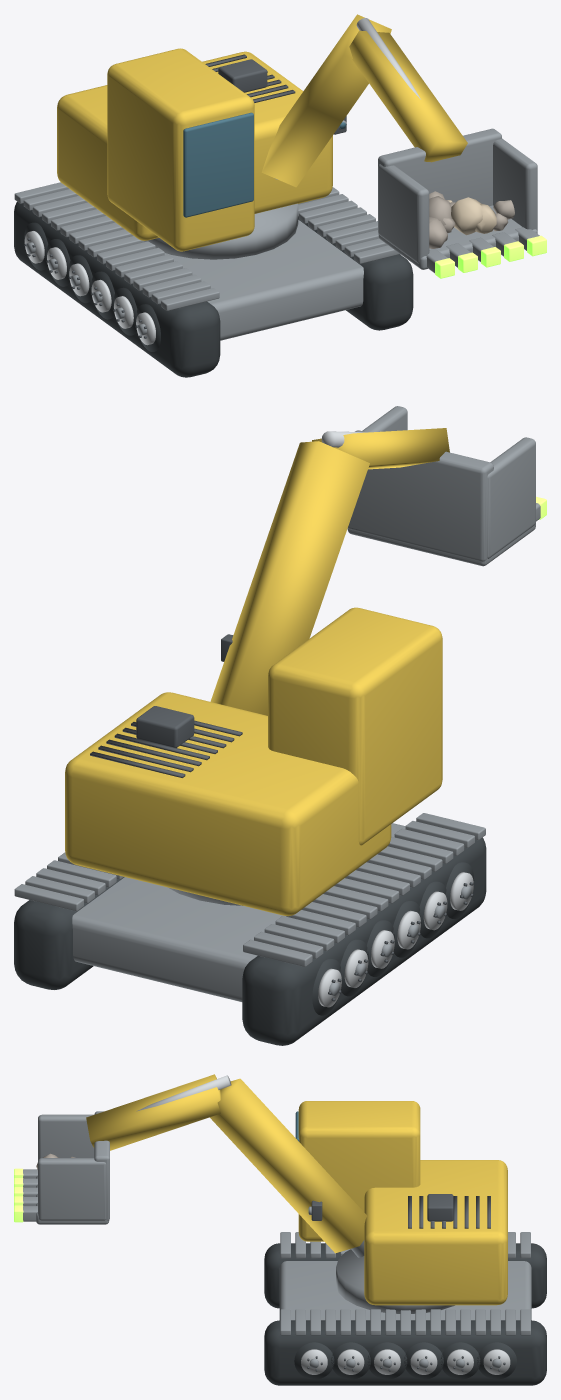
The model's file is smart-excavator.glb.
3 views of the same model, one above another, from view 1: azimuth 30°, elevation 25°; view 2: azimuth 150°, elevation 25°; view 3: azimuth 270°, elevation 25° (orthographic). The views are drawn at different scales.
Visible parts, largest first — view 1: Cab_0220, Bucket, Undercarriage_0001, Engine_0219, Crawler_0002, Boom, Stick, Cab_Glass_0221, Crawler_0110, Slew_Ring_0218, Edge_AI_Unit_0266, Ore_0257 (+26 smaller); view 2: Engine_0219, Cab_0220, Boom, Bucket, Undercarriage_0001, Crawler_0002, Crawler_0110, Stick, Edge_AI_Unit_0266, Track_Shoe_0127, Track_Shoe_0019, Track_Shoe_0017 (+8 smaller); view 3: Engine_0219, Cab_0220, Boom, Crawler_0110, Bucket, Undercarriage_0001, Stick, Crawler_0002, Slew_Ring_0218, Edge_AI_Unit_0266, Tire_0128, Tire_0158 (+10 smaller).
Boxes of the visible parts, <box> form: Cab_0220: <box>107,48,254,251</box>; Bucket: <box>378,128,537,269</box>; Undercarriage_0001: <box>164,220,363,340</box>; Engine_0219: <box>57,51,332,240</box>; Crawler_0002: <box>14,201,220,377</box>; Boom: <box>261,14,391,187</box>; Stick: <box>349,18,467,162</box>; Cab_Glass_0221: <box>183,112,253,217</box>; Crawler_0110: <box>298,216,413,330</box>; Slew_Ring_0218: <box>144,203,298,259</box>; Edge_AI_Unit_0266: <box>218,59,267,92</box>; Ore_0257: <box>451,197,482,235</box>; Engine_0219: <box>65,692,391,916</box>; Cab_0220: <box>268,607,442,845</box>; Boom: <box>210,441,369,715</box>; Bucket: <box>347,406,535,566</box>; Undercarriage_0001: <box>72,823,405,1001</box>; Crawler_0002: <box>242,837,486,1045</box>; Crawler_0110: <box>14,877,124,989</box>; Stick: <box>312,428,449,469</box>; Edge_AI_Unit_0266: <box>136,706,194,747</box>; Track_Shoe_0127: <box>14,884,83,911</box>; Track_Shoe_0019: <box>243,939,312,966</box>; Track_Shoe_0017: <box>264,924,334,951</box>; Engine_0219: <box>364,1160,507,1305</box>; Cab_0220: <box>298,1101,420,1241</box>; Boom: <box>210,1078,367,1253</box>; Crawler_0110: <box>264,1320,546,1385</box>; Bucket: <box>36,1111,109,1224</box>; Undercarriage_0001: <box>279,1261,531,1320</box>; Stick: <box>86,1074,231,1150</box>; Crawler_0002: <box>264,1243,546,1308</box>; Slew_Ring_0218: <box>336,1249,454,1313</box>; Edge_AI_Unit_0266: <box>427,1194,453,1221</box>; Tire_0128: <box>294,1342,334,1379</box>; Tire_0158: <box>367,1342,407,1379</box>.
Size of the model in its own units: 2.8 by 3.6 by 6.13.
